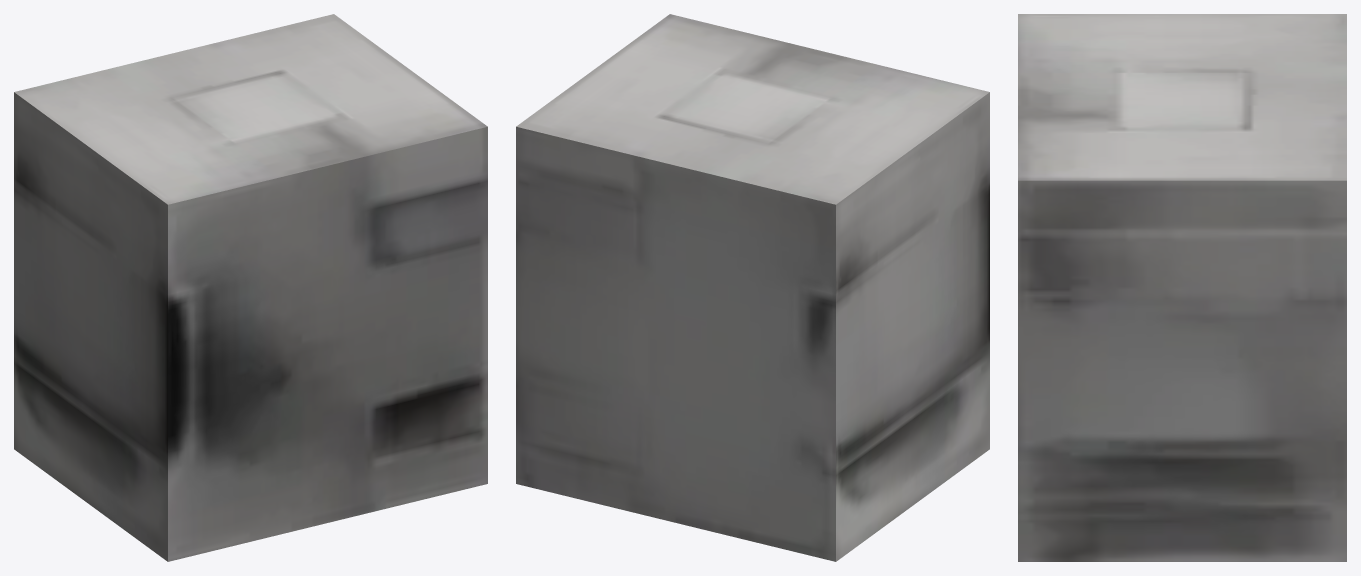
Rendered from tool_head__gripper_palm.glb.
The picture shows the model from 3 angles, left to right: view 1: azimuth 30°, elevation 25°; view 2: azimuth 150°, elevation 25°; view 3: azimuth 270°, elevation 25°; orthographic projection. The views are drawn at different scales.
Visible parts, largest first — view 1: geometry_0; view 2: geometry_0; view 3: geometry_0.
Boxes of the visible parts, <box> form: geometry_0: <box>14,14,487,561</box>; geometry_0: <box>516,14,989,561</box>; geometry_0: <box>1018,14,1346,561</box>.
Size of the model in its own units: 0.06 by 0.064 by 0.05.
Materials: 1 (1 with a texture image).
